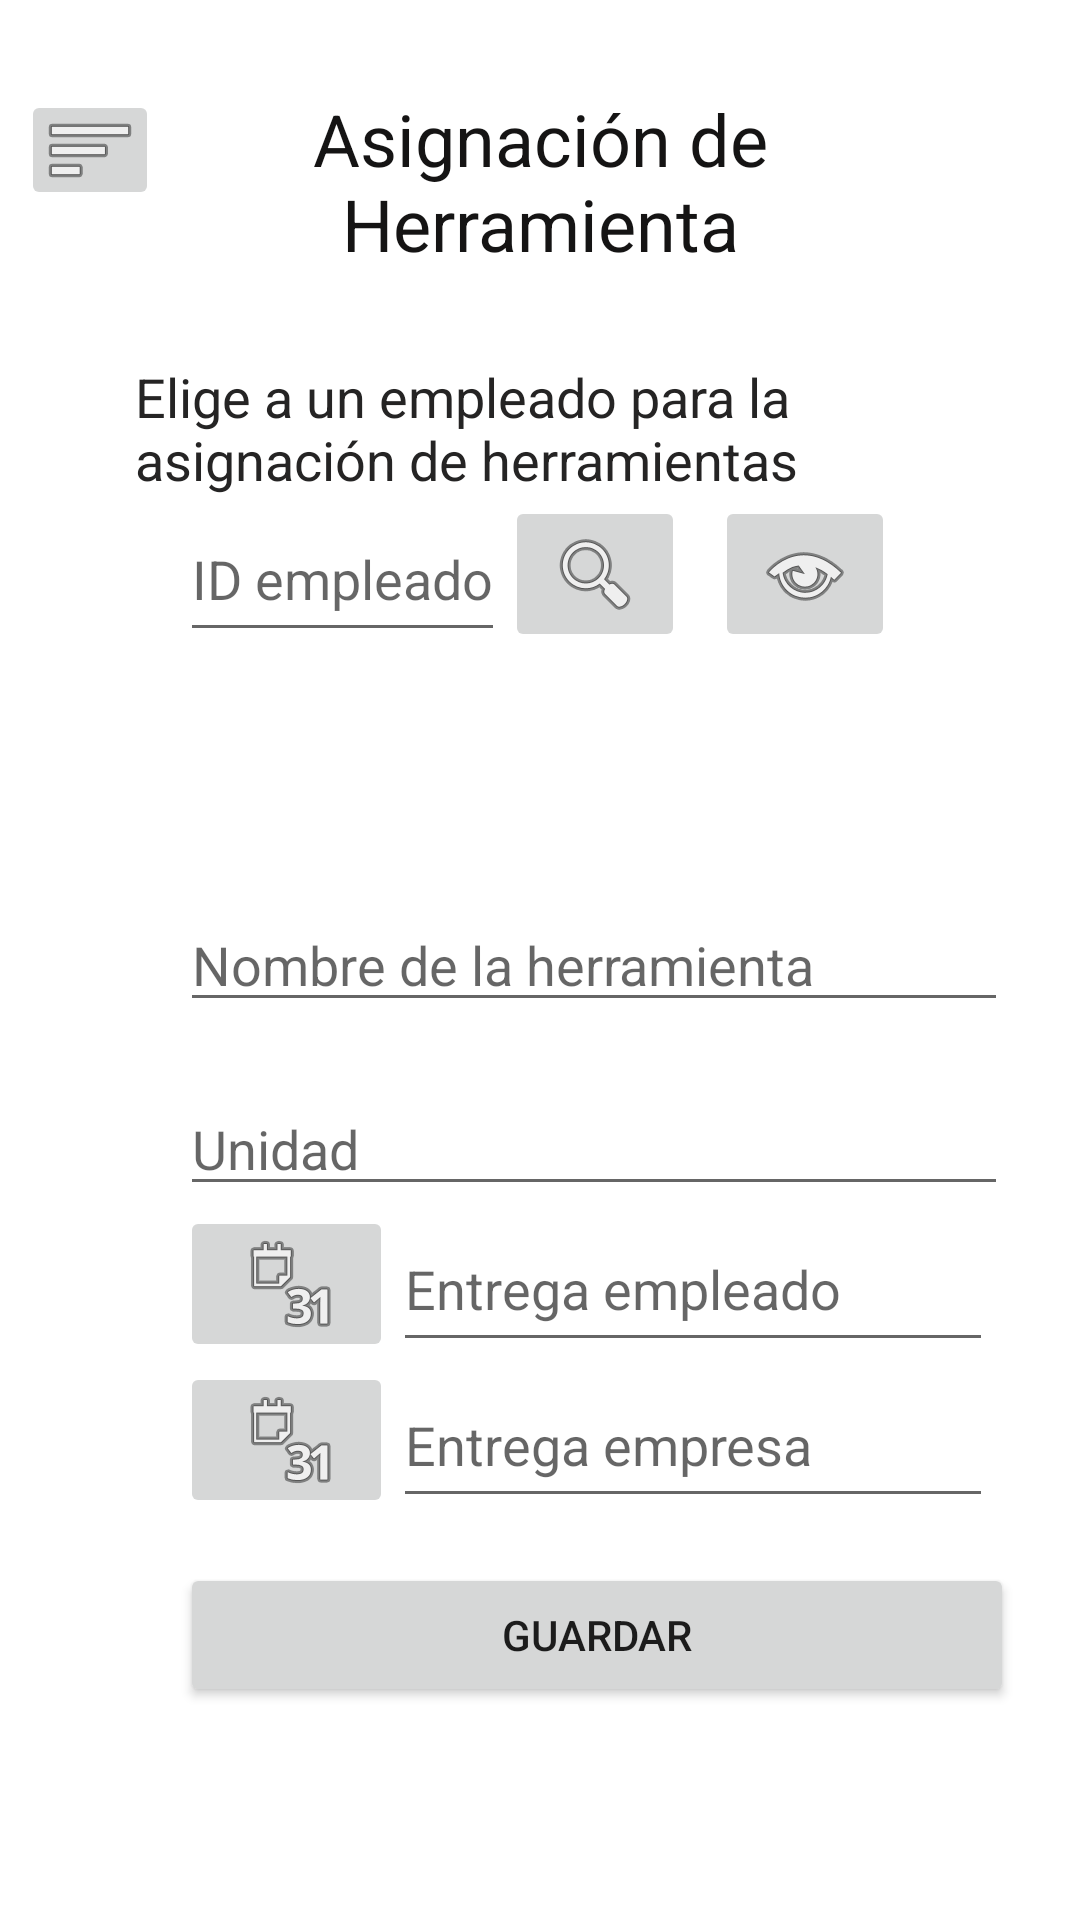

Point at icon controls on the screen. Image size 1080×1920, points as (x,y).
month: (286,1284), (286,1440)
search: (595,574)
sort by size: (90,150)
view: (805,574)
